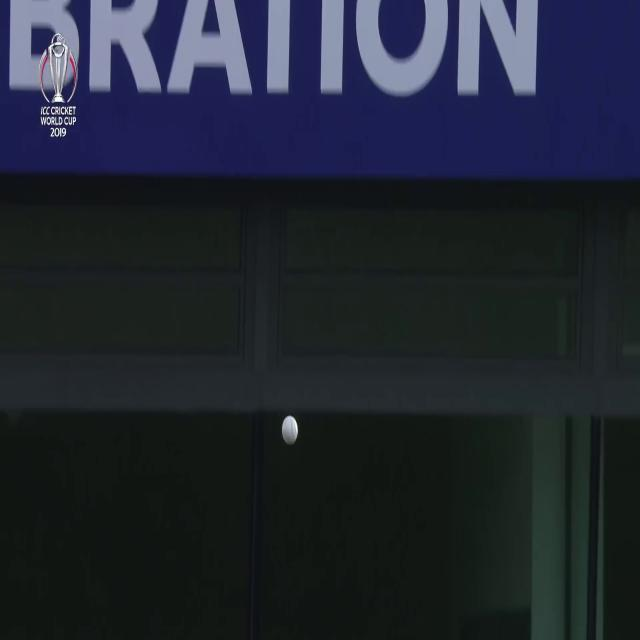ball: (279, 411, 303, 449)
